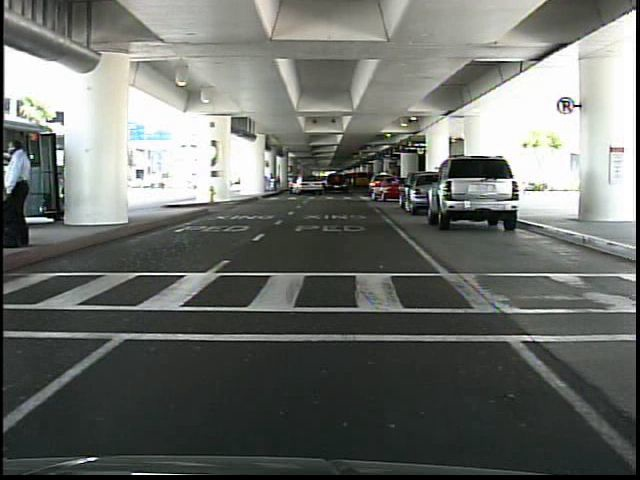person: (9, 142, 41, 250)
